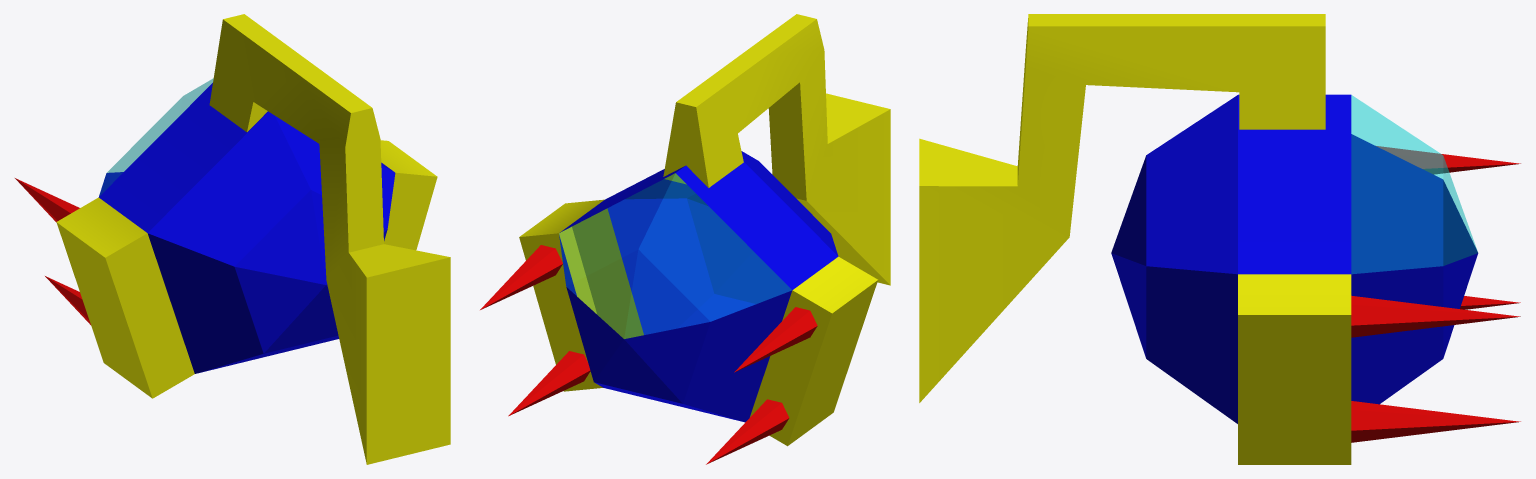
Rendered from PlayerShip-03-StingerClassShip.fbx.
The picture shows the model from 3 angles, left to right: view 1: azimuth 30°, elevation 25°; view 2: azimuth 150°, elevation 25°; view 3: azimuth 270°, elevation 25°; orthographic projection. The views are drawn at different scales.
Parts seen in each view (by area): view 1: pasted__pSphere1, pasted__pCube1, pasted__pCone1, pasted__pCone3; view 2: pasted__pSphere1, pasted__pCube1, pasted__pCone3, pasted__pCone2, pasted__pCone1, pasted__pCone4; view 3: pasted__pSphere1, pasted__pCube1, pasted__pCone2, pasted__pCone4, pasted__pCone1.
Boxes of the visible parts, x1=… form: pasted__pSphere1: x1=56, y1=78, x2=437, y2=398; pasted__pCube1: x1=209, y1=14, x2=450, y2=464; pasted__pCone1: x1=15, y1=178, x2=79, y2=222; pasted__pCone3: x1=45, y1=276, x2=90, y2=324; pasted__pSphere1: x1=519, y1=151, x2=877, y2=446; pasted__pCube1: x1=663, y1=14, x2=890, y2=285; pasted__pCone3: x1=706, y1=399, x2=789, y2=464; pasted__pCone2: x1=480, y1=245, x2=562, y2=309; pasted__pCone1: x1=734, y1=307, x2=817, y2=372; pasted__pCone4: x1=508, y1=351, x2=590, y2=416; pasted__pSphere1: x1=1111, y1=94, x2=1478, y2=464; pasted__pCube1: x1=919, y1=14, x2=1325, y2=402; pasted__pCone2: x1=1351, y1=295, x2=1520, y2=337; pasted__pCone4: x1=1351, y1=401, x2=1520, y2=442; pasted__pCone1: x1=1376, y1=146, x2=1520, y2=174.
Bounding box in the file's own units: 6.64 × 6.22 × 8.98.
